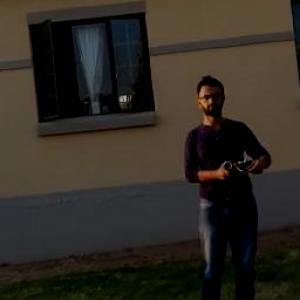follow: (178, 68, 285, 299)
